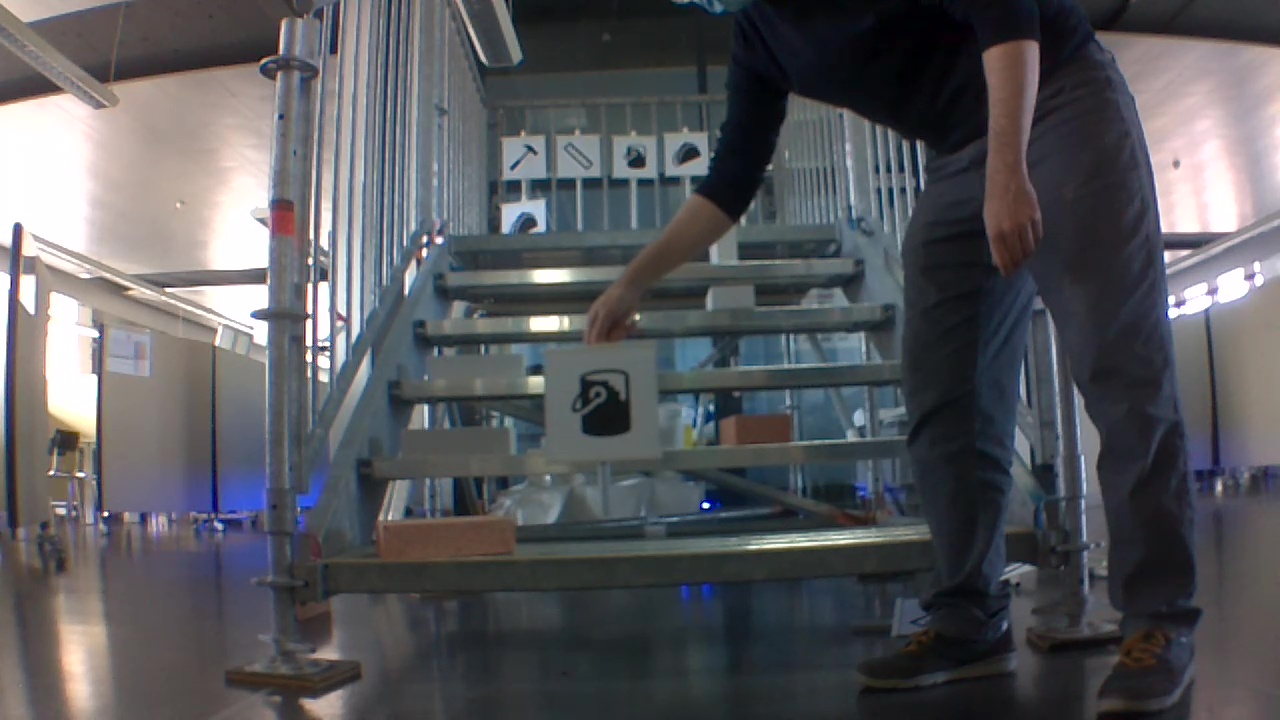brick: (376, 514, 513, 559), (402, 426, 517, 458), (428, 352, 526, 381), (720, 412, 790, 445), (705, 287, 754, 310), (708, 225, 738, 260)
bucket: (568, 364, 637, 441), (619, 142, 650, 170)
edge: (328, 529, 1038, 588)
hammer: (502, 139, 538, 173)
ruler: (560, 138, 594, 174)
taco: (668, 139, 703, 168), (507, 206, 539, 235)
